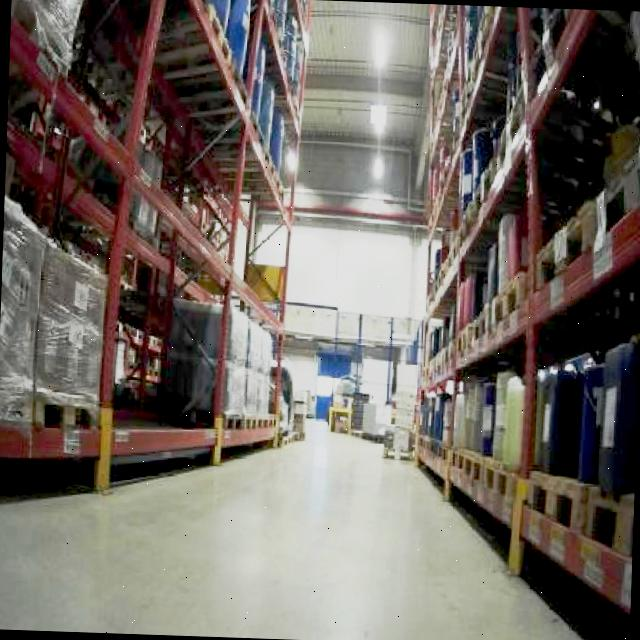ground: (0, 404, 636, 640)
pallet: (403, 3, 640, 640)
